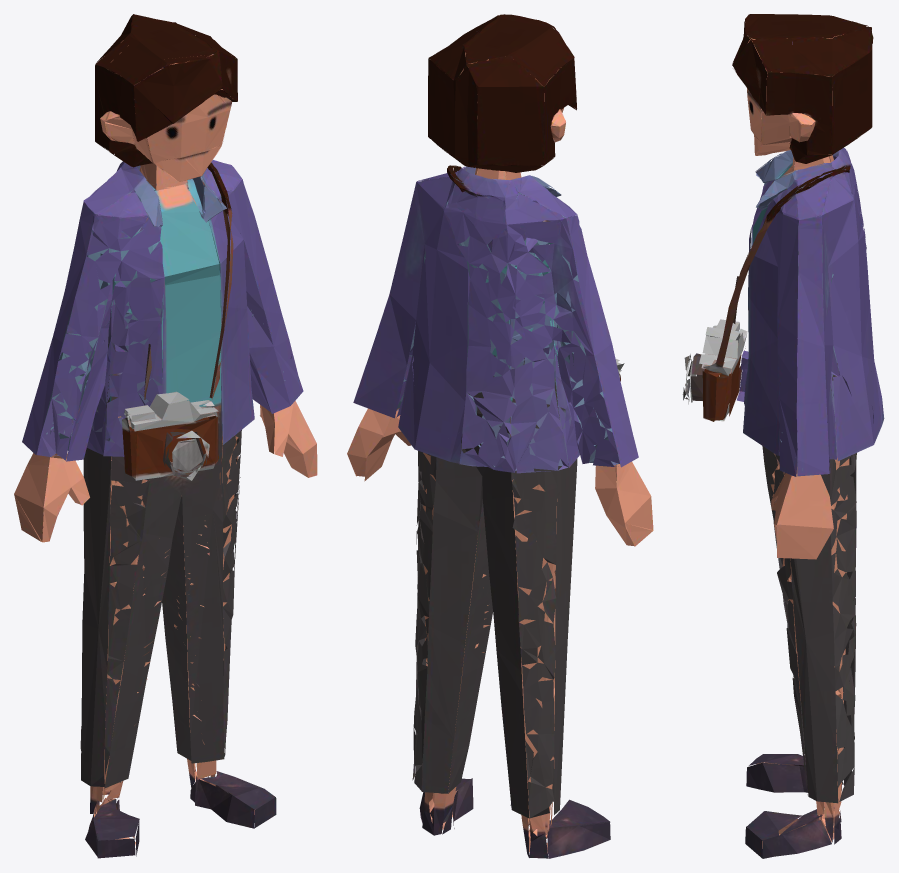
3 views of the same model, side by side, from view 1: azimuth 30°, elevation 25°; view 2: azimuth 150°, elevation 25°; view 3: azimuth 270°, elevation 25° (orthographic).
Visible parts, largest first — view 1: world; view 2: world; view 3: world.
Part boxes in pixels (x1,y1,x2,y2): world: (14, 14, 317, 858); world: (347, 14, 653, 858); world: (682, 14, 884, 858).
Size of the model in its own units: 0.3711 by 1 by 0.2333.
Materials: 1 (1 with a texture image).
